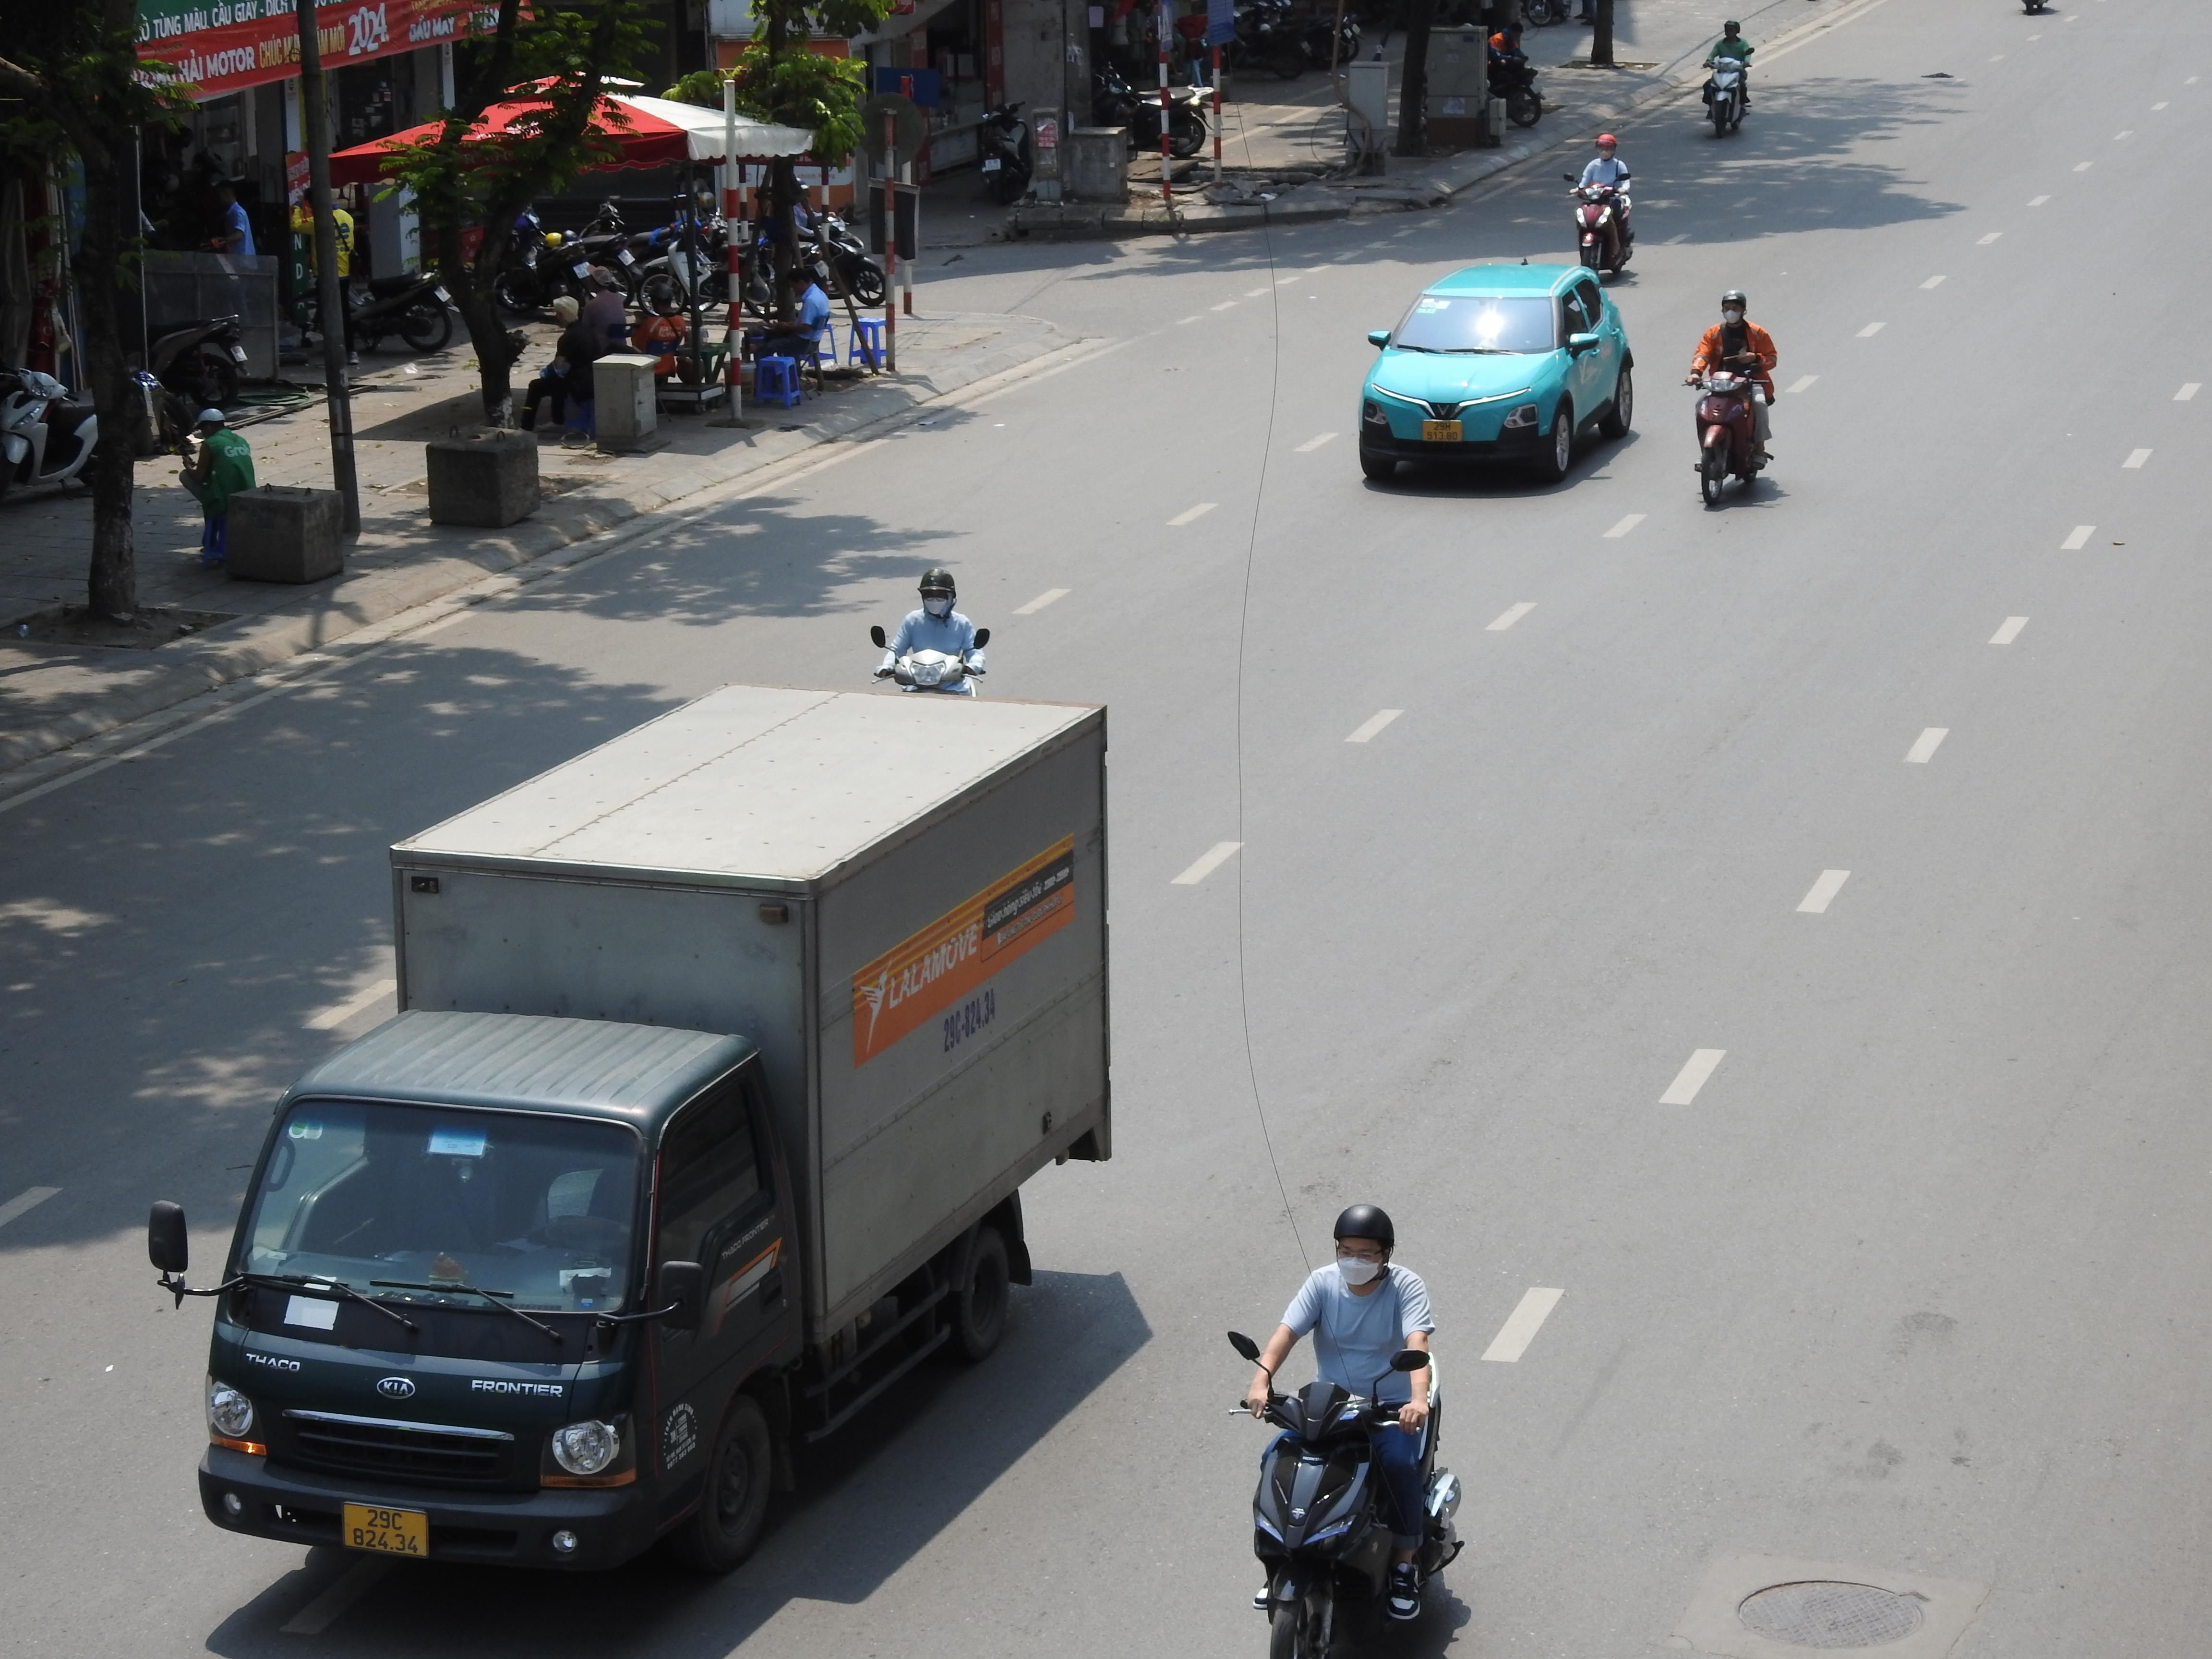BSV: (343, 1502, 428, 1556), (1423, 420, 1463, 443)
car: (1357, 260, 1639, 488)
motorbike: (1228, 1202, 1467, 1659), (1686, 289, 1778, 511), (871, 565, 991, 697), (0, 359, 99, 505), (1569, 132, 1637, 282), (1482, 19, 1550, 132), (1700, 17, 1754, 139)
truck: (146, 680, 1118, 1582)
